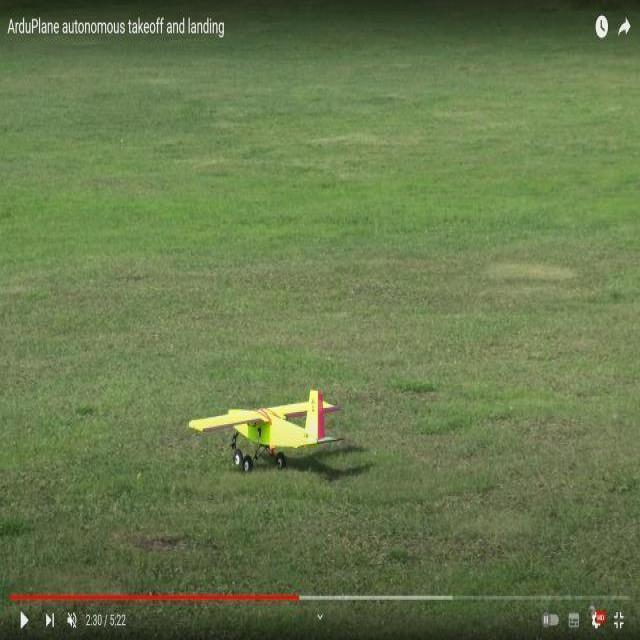iha: (174, 404, 347, 449)
